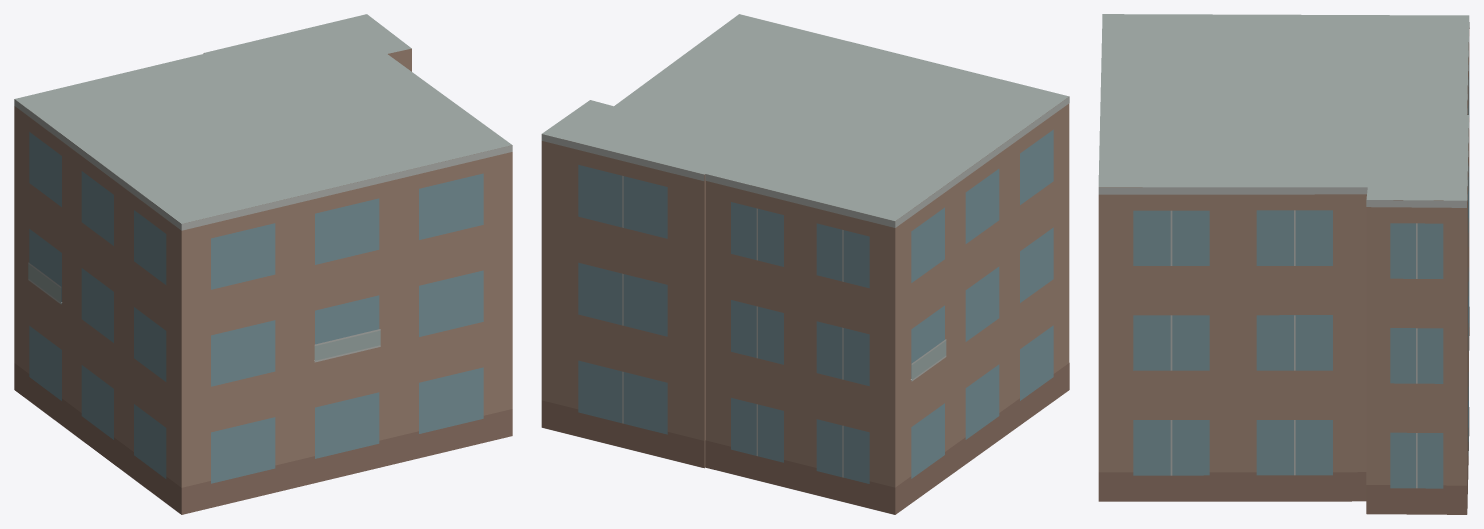
The model's file is survey-upis-33005614.glb.
The picture shows the model from 3 angles, left to right: view 1: azimuth 30°, elevation 25°; view 2: azimuth 150°, elevation 25°; view 3: azimuth 270°, elevation 25°; orthographic projection. The views are drawn at different scales.
Visible parts, largest first — view 1: survey-upis-33005614.tmp; view 2: survey-upis-33005614.tmp; view 3: survey-upis-33005614.tmp.
Boxes of the visible parts, <box> form: survey-upis-33005614.tmp: <box>14,14,512,514</box>; survey-upis-33005614.tmp: <box>541,14,1069,514</box>; survey-upis-33005614.tmp: <box>1098,14,1469,514</box>.
Size of the model in its own units: 13.38 by 10.5 by 11.24.
